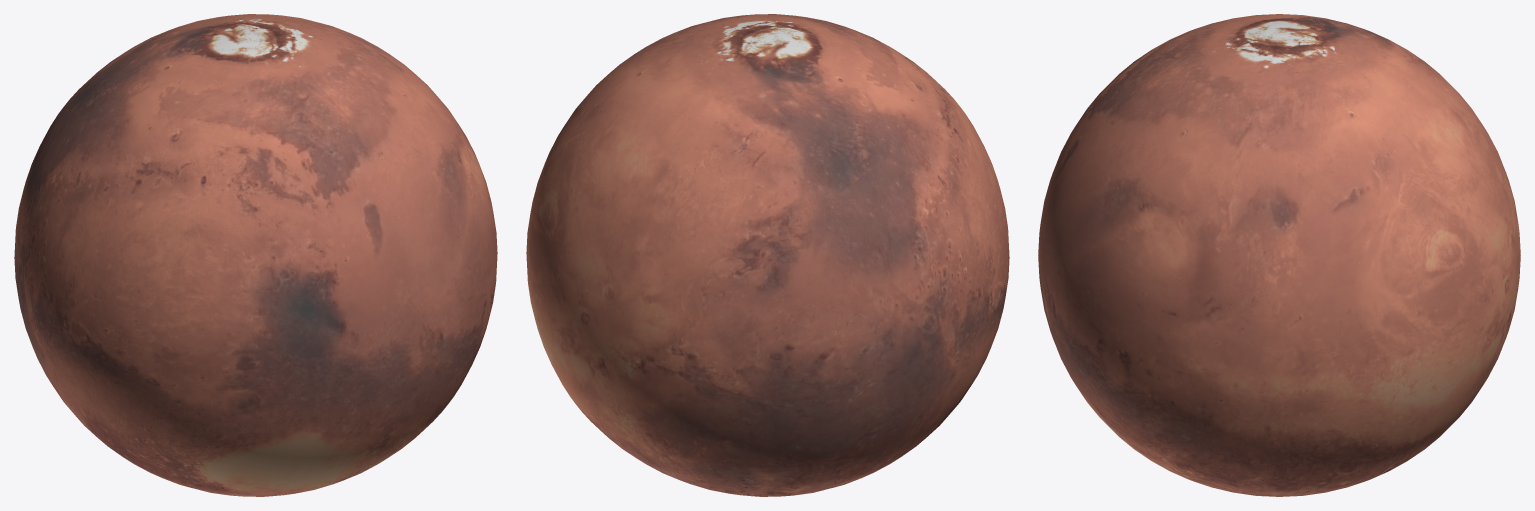
Rendered from Mars.glb.
3 views of the same model, side by side, from view 1: azimuth 30°, elevation 25°; view 2: azimuth 150°, elevation 25°; view 3: azimuth 270°, elevation 25° (orthographic).
Visible parts, largest first — view 1: Cube.008; view 2: Cube.008; view 3: Cube.008.
Part boxes in pixels (x1=…): Cube.008: x1=14, y1=14, x2=497, y2=496; Cube.008: x1=526, y1=14, x2=1009, y2=496; Cube.008: x1=1038, y1=14, x2=1520, y2=496.
Size of the model in its own units: 0.8 by 0.8 by 0.8.
Materials: 1 (1 with a texture image).
